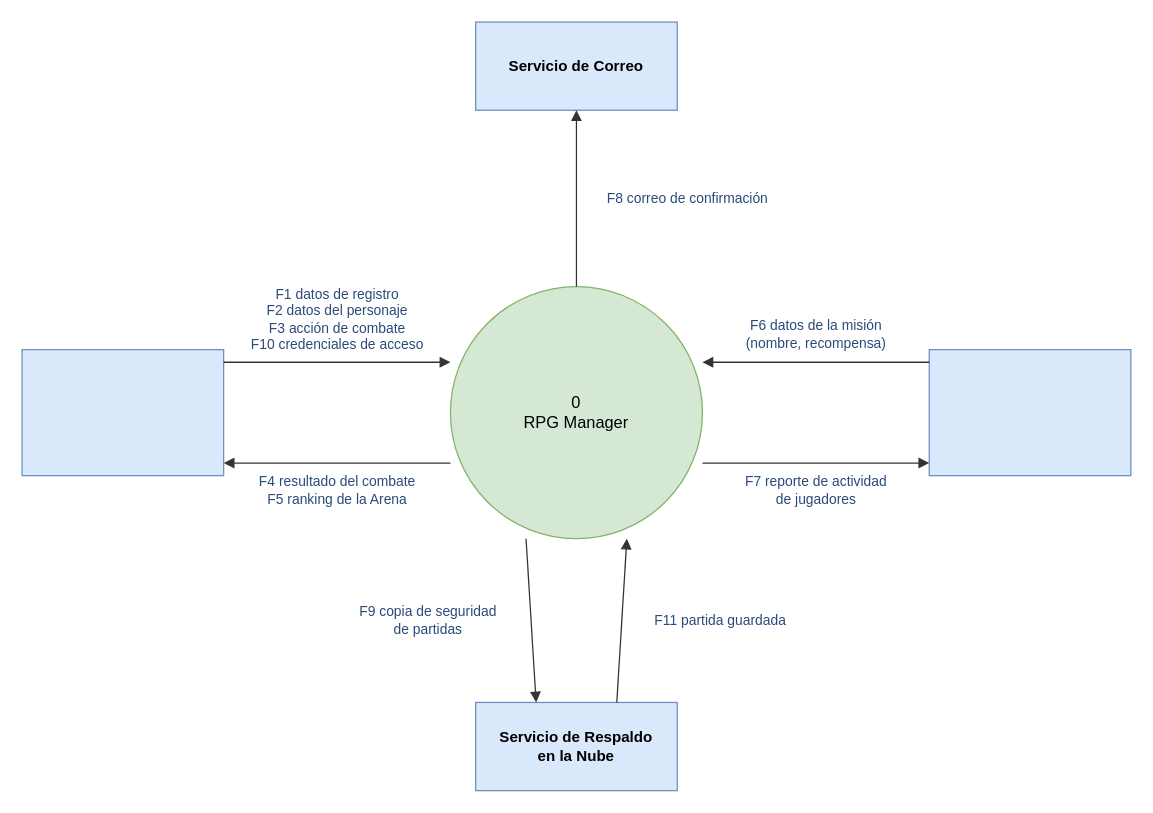
The diagram is 1153 pixels wide and 813 high, and some of its shapes have lost their labels. The shapes that lost their labels are listed below. From the top down, each one's centre as x and y in pixels, then its label:
At point 122,412: "Jugador".
At point 1029,412: "Game Master".
